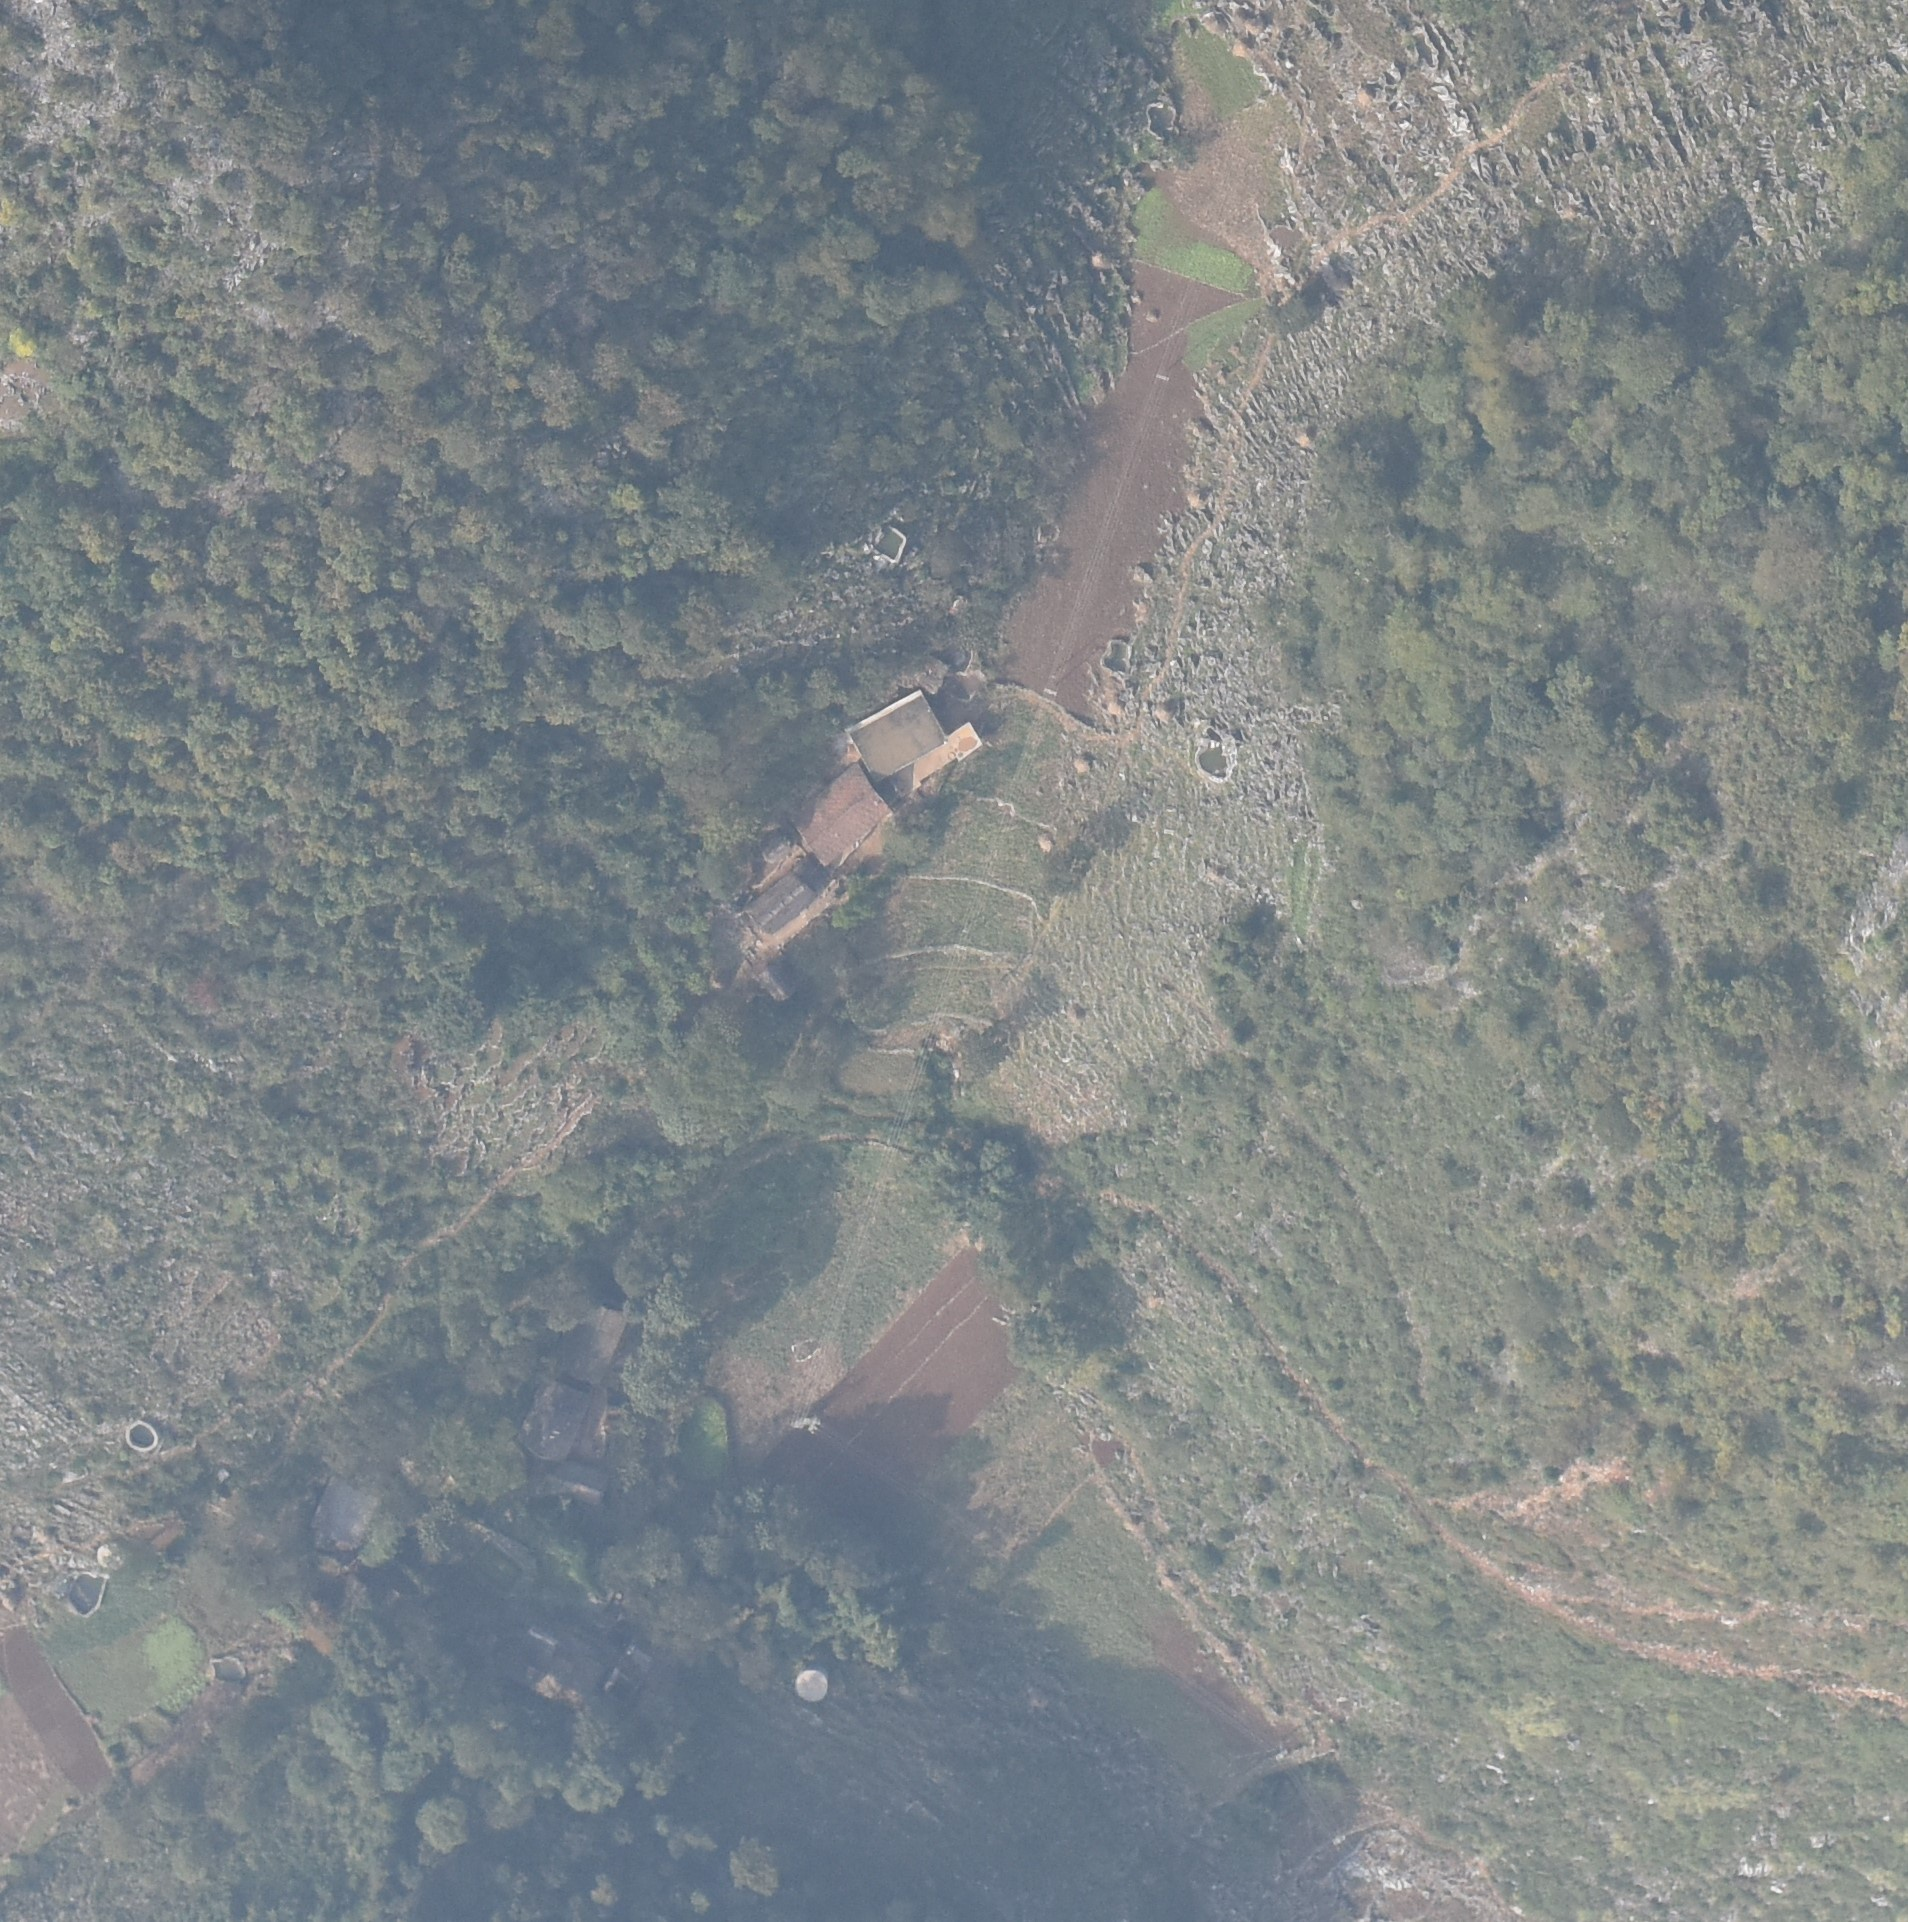building: (789, 765, 893, 871), (847, 688, 946, 783), (305, 1478, 378, 1569), (549, 1305, 625, 1388), (514, 1381, 583, 1464), (744, 873, 818, 932)
cable-tower: (788, 1414, 821, 1434), (1154, 373, 1169, 382)
well: (117, 1416, 166, 1456), (793, 1669, 828, 1700)
